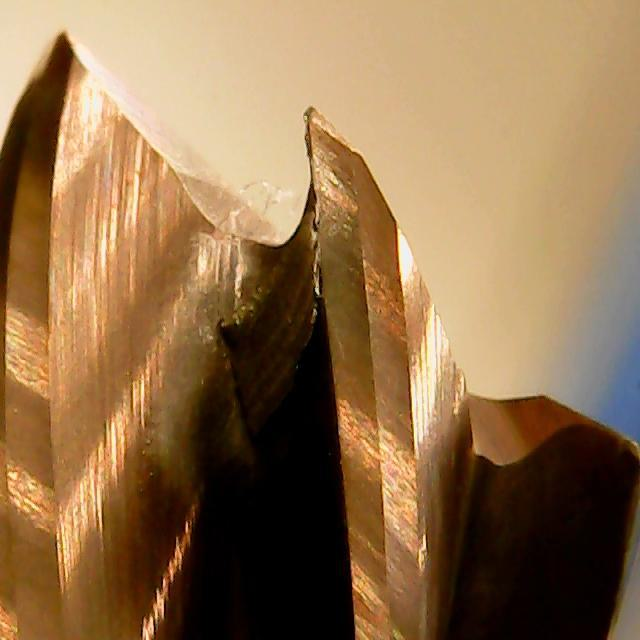Tool-wear-class-1: (293, 103, 413, 349)
